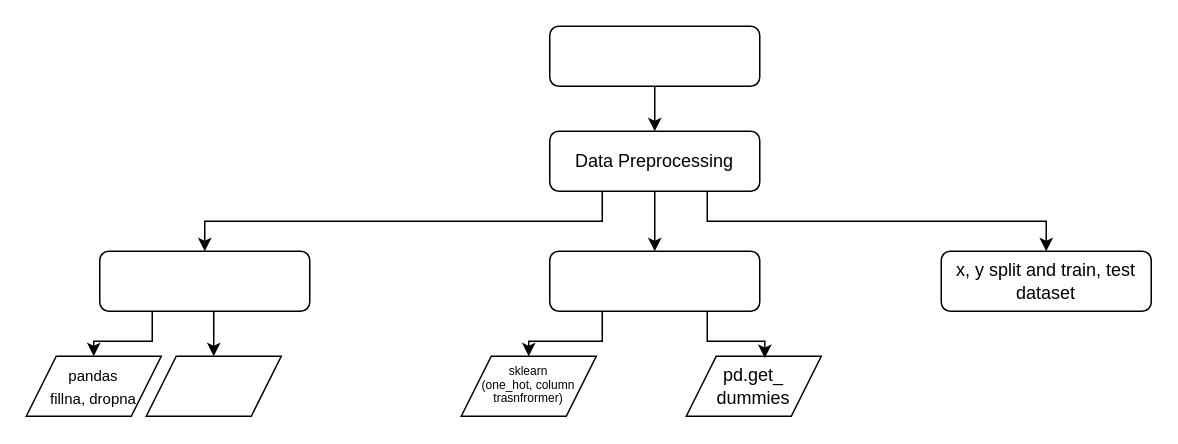
Some shapes in this 1178 by 444 pixel diagram are drawn without their labels. Each missing label, with the centre of its shape:
"Label Encoding" belongs at (x=654, y=280).
"Lad Dataset" belongs at (x=654, y=55).
"Missing values" belongs at (x=204, y=280).
